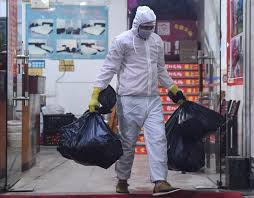masked: (127, 4, 159, 42)
